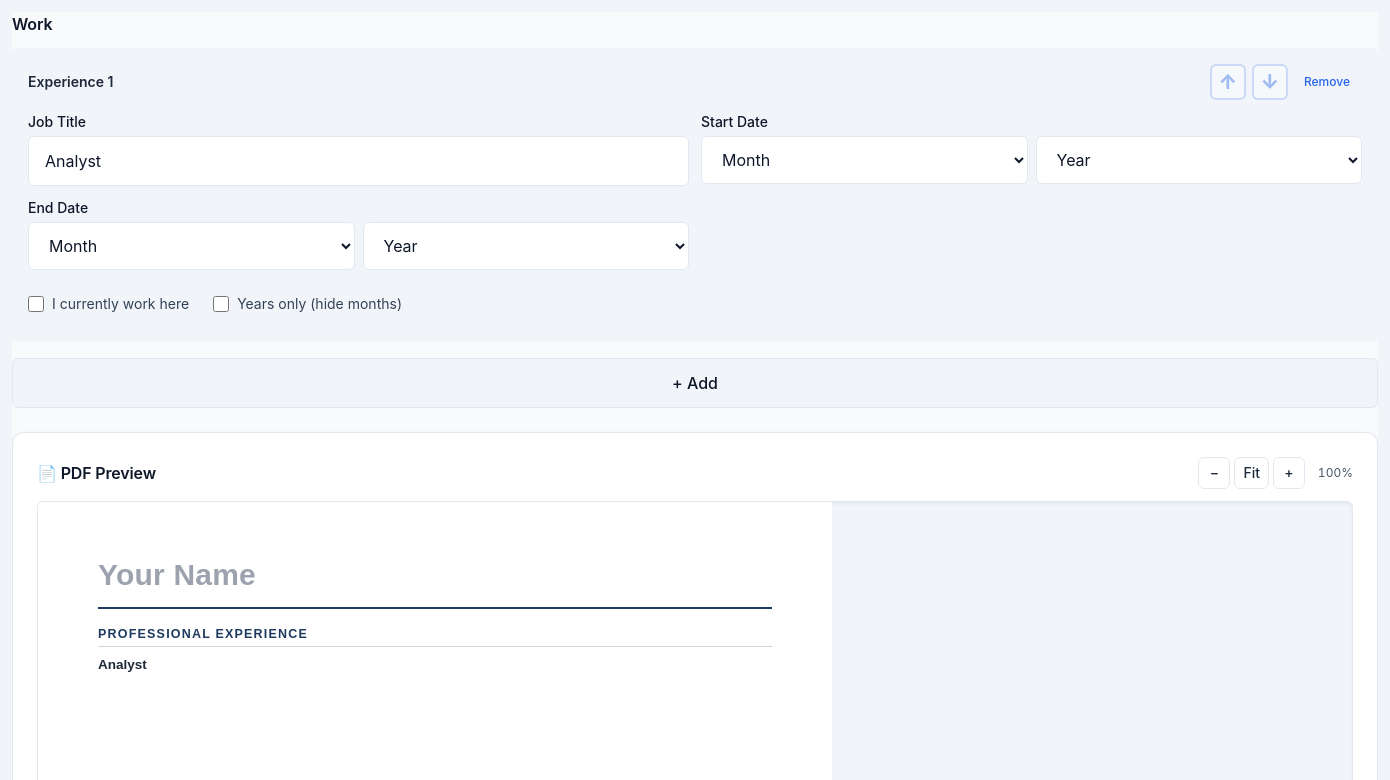
date fields with "Years only" › picks month and year from dropdowns and shows them in the preview
This screenshot has width=1390, height=780.
Select "Mar" in the 1st dropdown named "Start Date month" at (864, 160), box 701,136 -> 1028,184
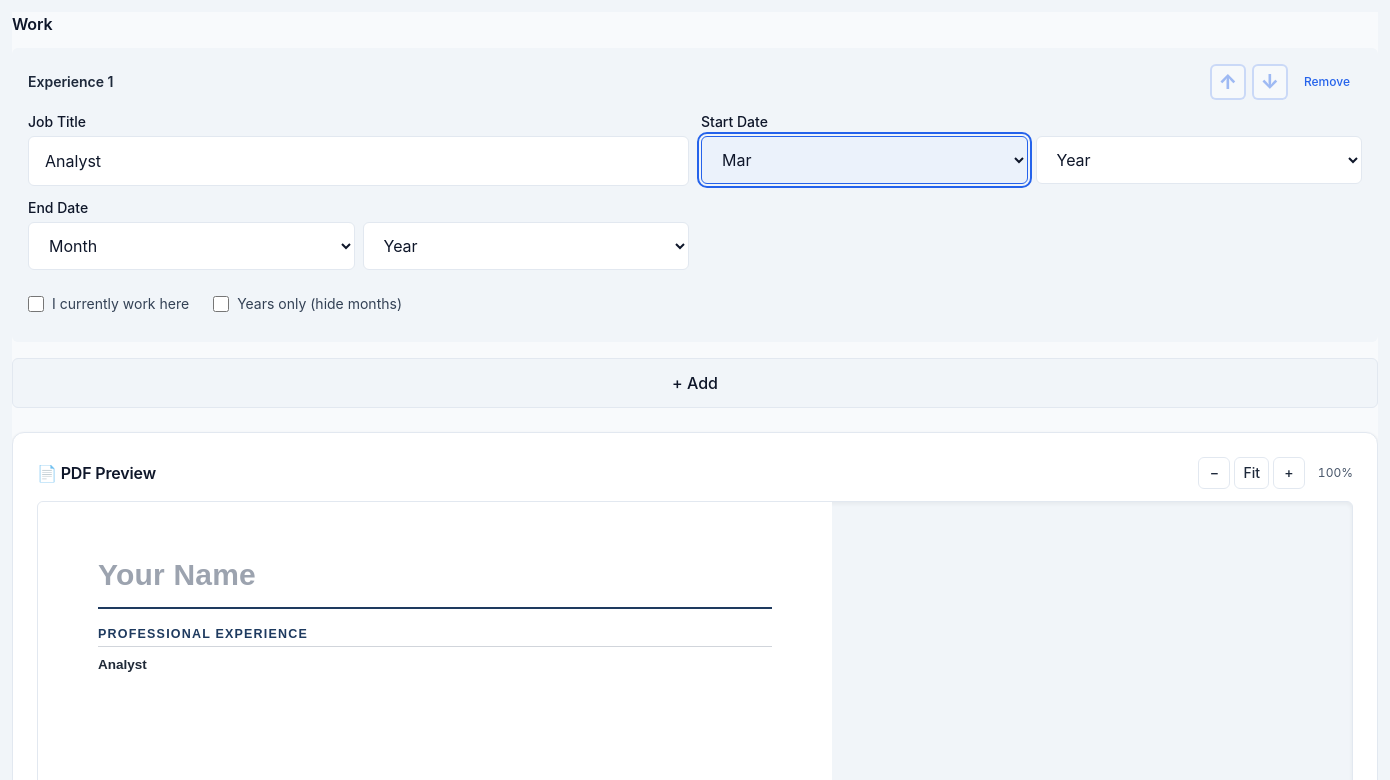
Select "2019" in the 2nd dropdown named "Start Date year" at (1199, 160), box 1036,136 -> 1362,184
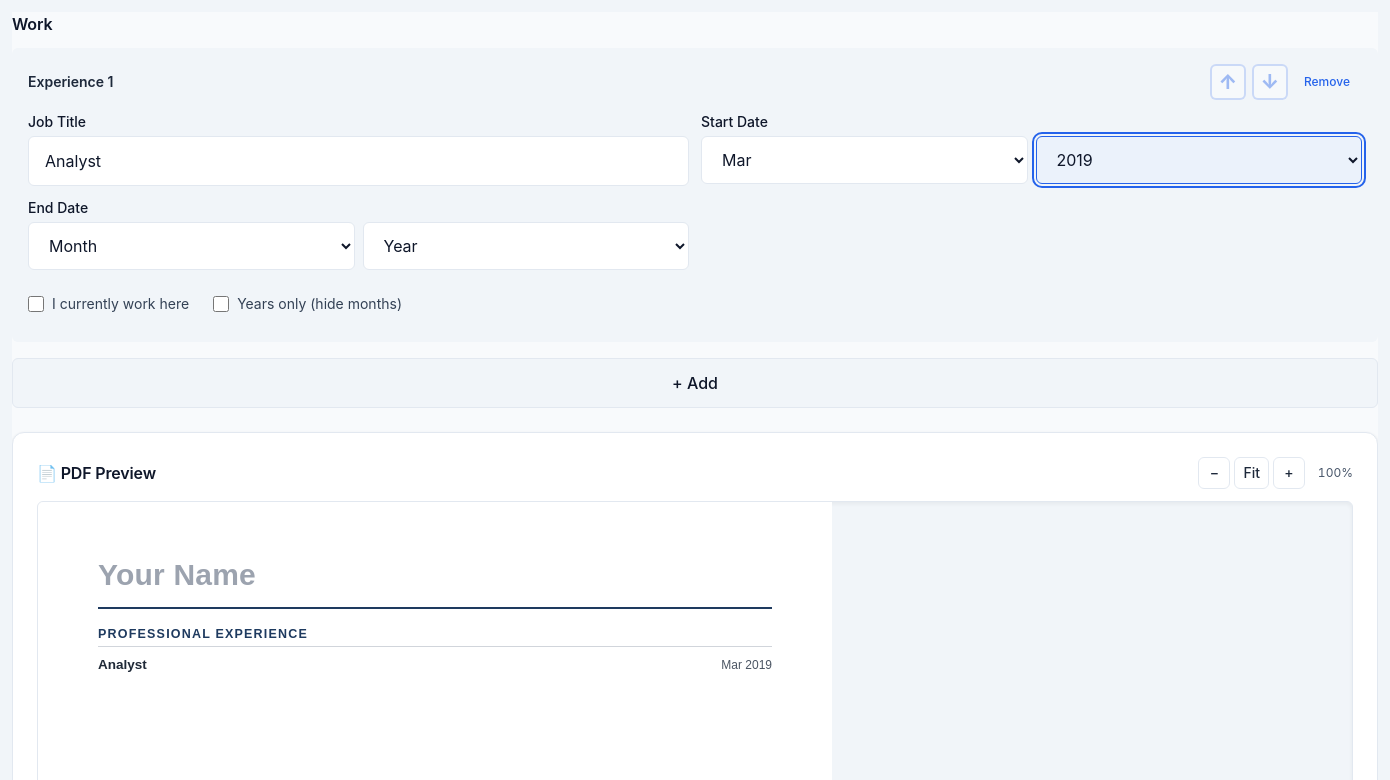
Select "2021" in the 4th dropdown named "End Date year" at (526, 246), box 362,222 -> 689,270
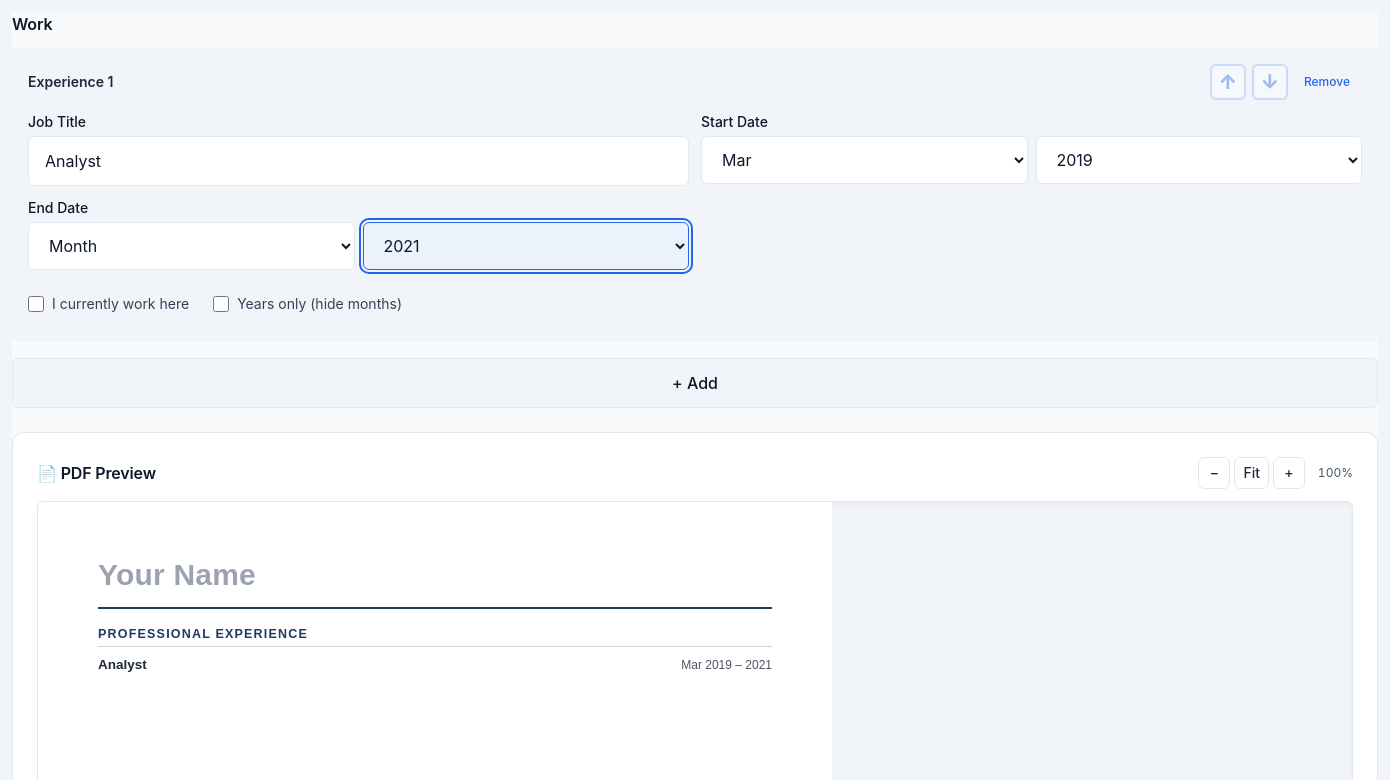
Result: the text "Mar 2019 – 2021" is shown at 681,657 -> 772,674
